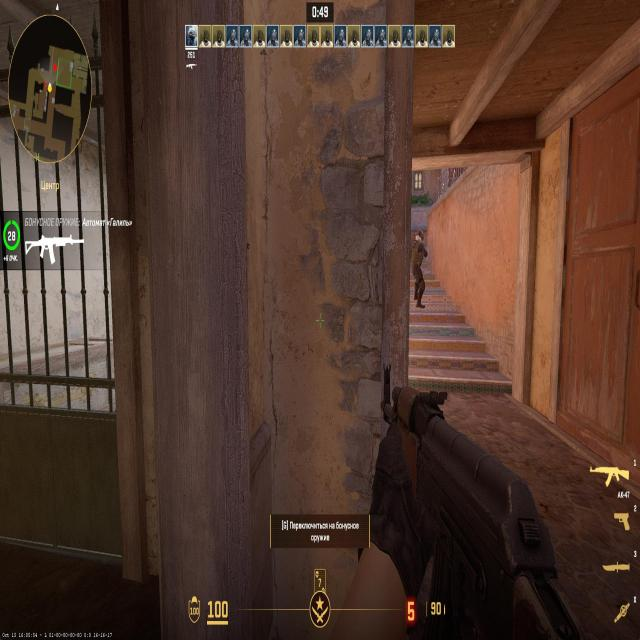CT: (415, 230, 423, 294)
CT_heat: (417, 228, 422, 249)
